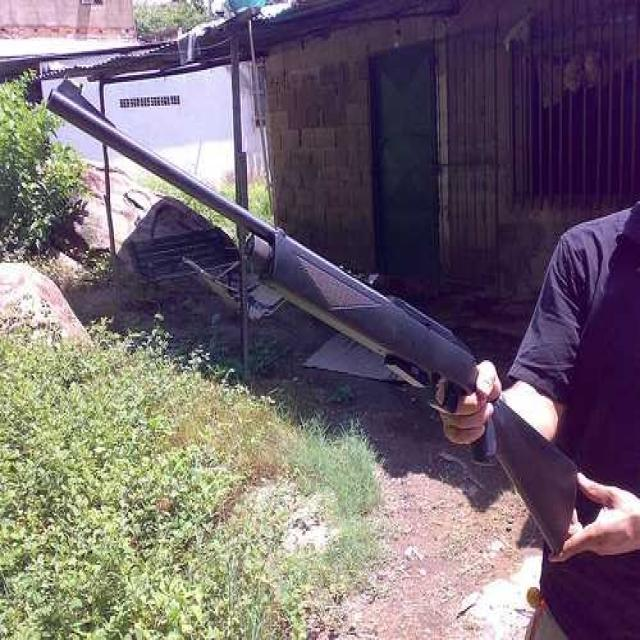heavyweapon: (32, 73, 585, 564)
